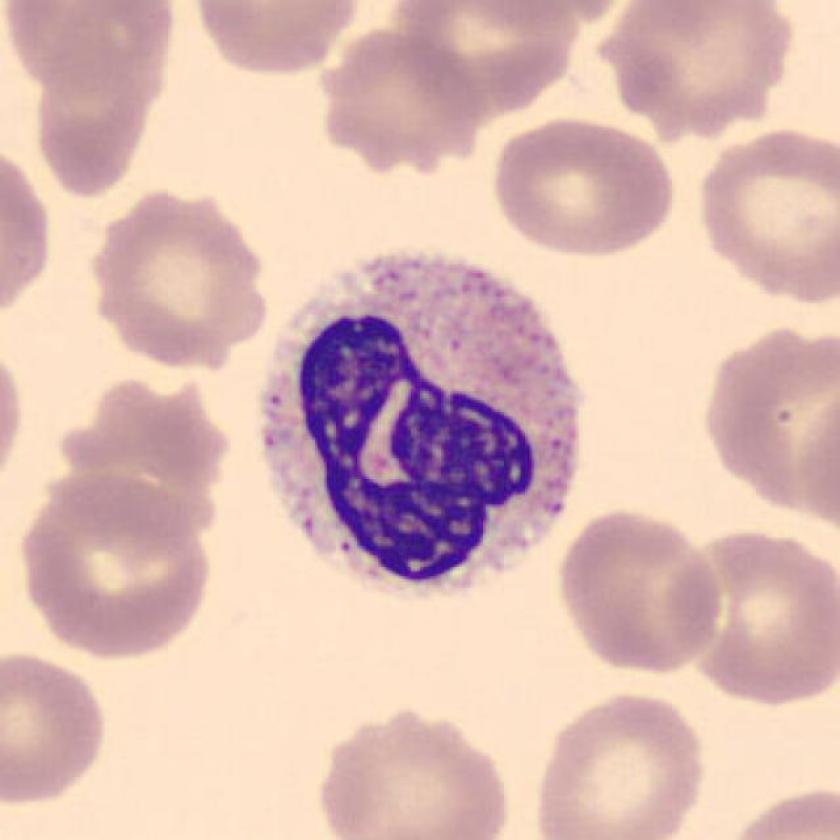neutrophil: (261, 249, 580, 601)
